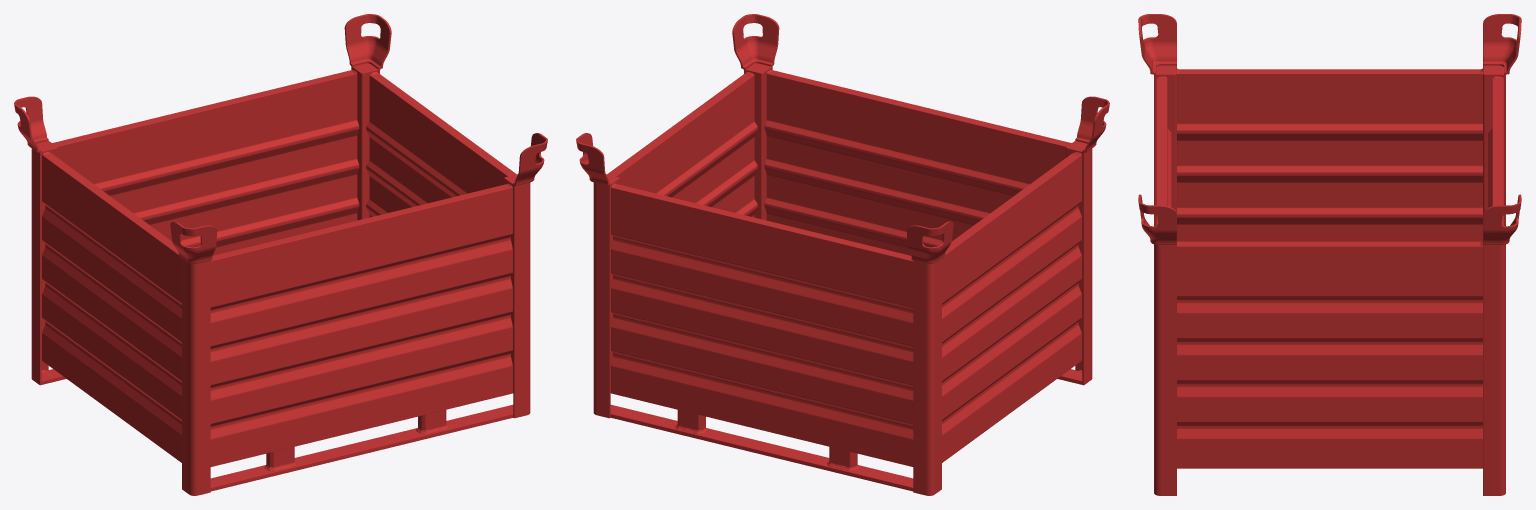
Rendered from rack_heavyduty_metal_f01.glb.
3 renders of one model, left to right at view 1: azimuth 30°, elevation 25°; view 2: azimuth 150°, elevation 25°; view 3: azimuth 270°, elevation 25°, orthographic. The views are drawn at different scales.
Visible parts, largest first — view 1: body_01_mesh_00; view 2: body_01_mesh_00; view 3: body_01_mesh_00.
Boxes of the visible parts, x1,y1,x2,y2 form: body_01_mesh_00: (14,14,547,495); body_01_mesh_00: (576,14,1109,495); body_01_mesh_00: (1138,14,1521,495).
Size of the model in its own units: 1.3 by 0.9336 by 1.09.
